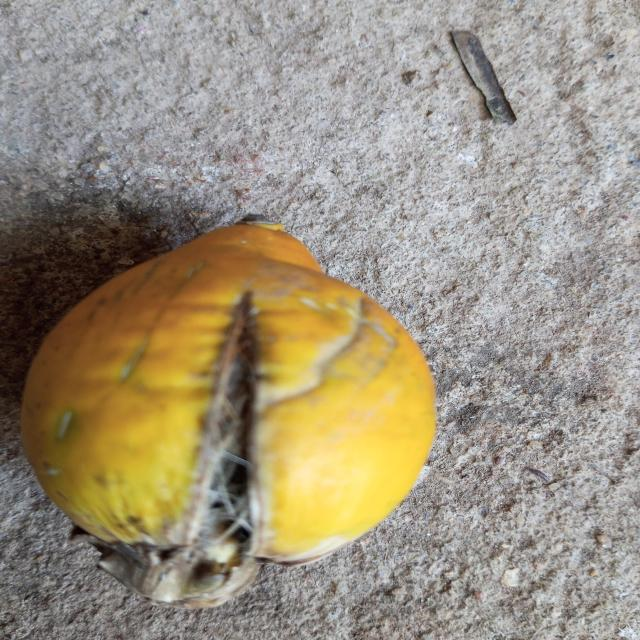damaged: (22, 215, 435, 608)
